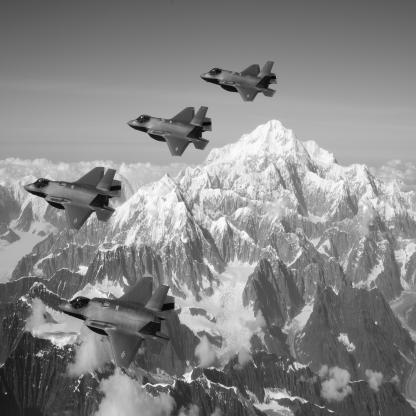F35: (58, 278, 176, 371), (24, 167, 123, 232), (127, 107, 213, 158), (200, 61, 278, 103)
